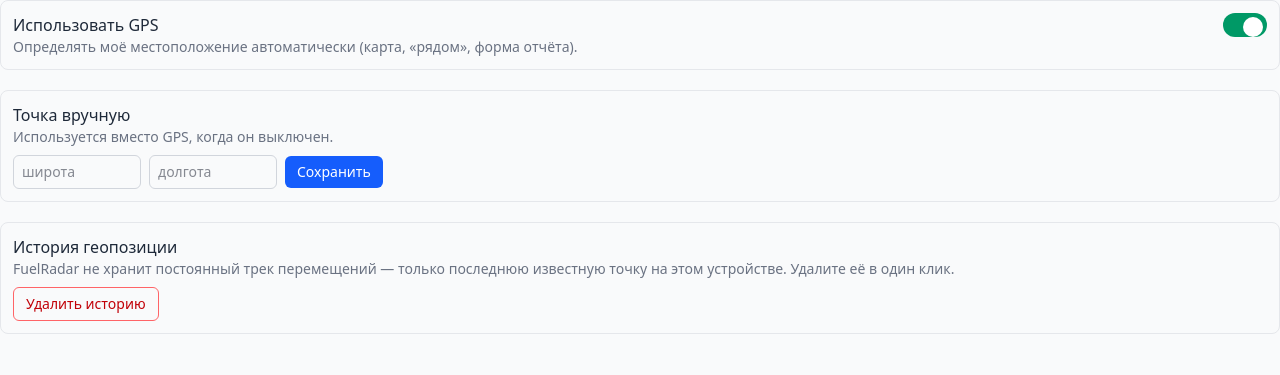
Test: PrivacySettings (R24) › невалидные координаты ручной точки отклоняются
The width and height of the screenshot is (1280, 375).
In the number field with placeholder "широта": (77, 172) [13,155,141,189], type "999"
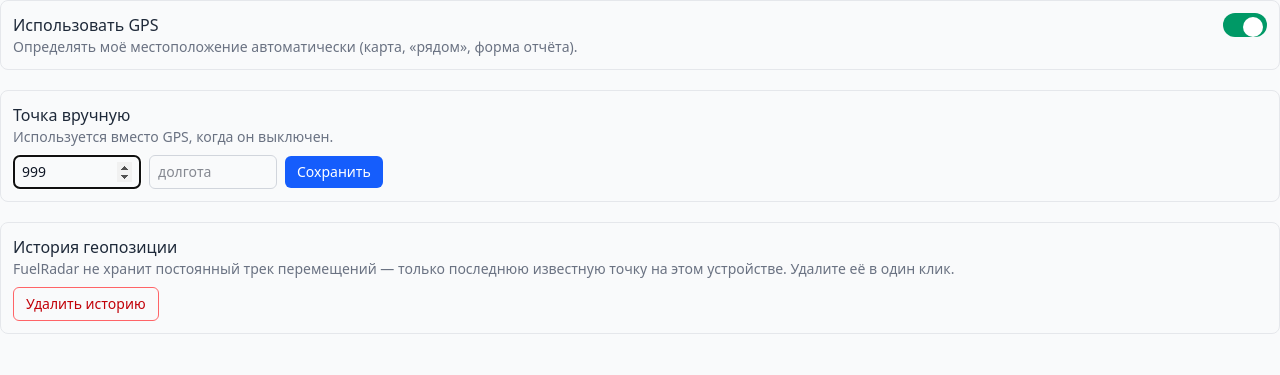
In the number field with placeholder "долгота": (213, 172) [149,155,277,189], type "38"
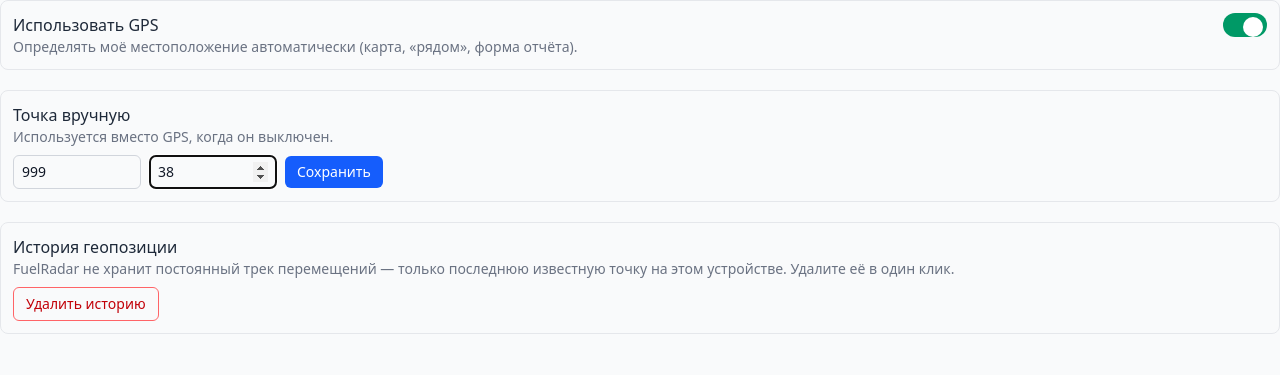
Click the button "Сохранить": (334, 172) [285,156,383,188]
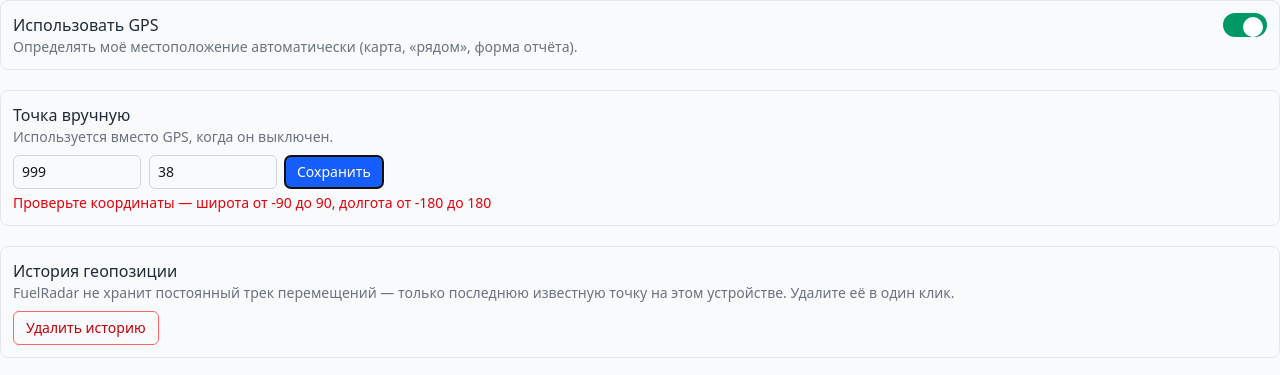
Expected: the text "Проверьте координаты" is shown, [13,193,491,212]
